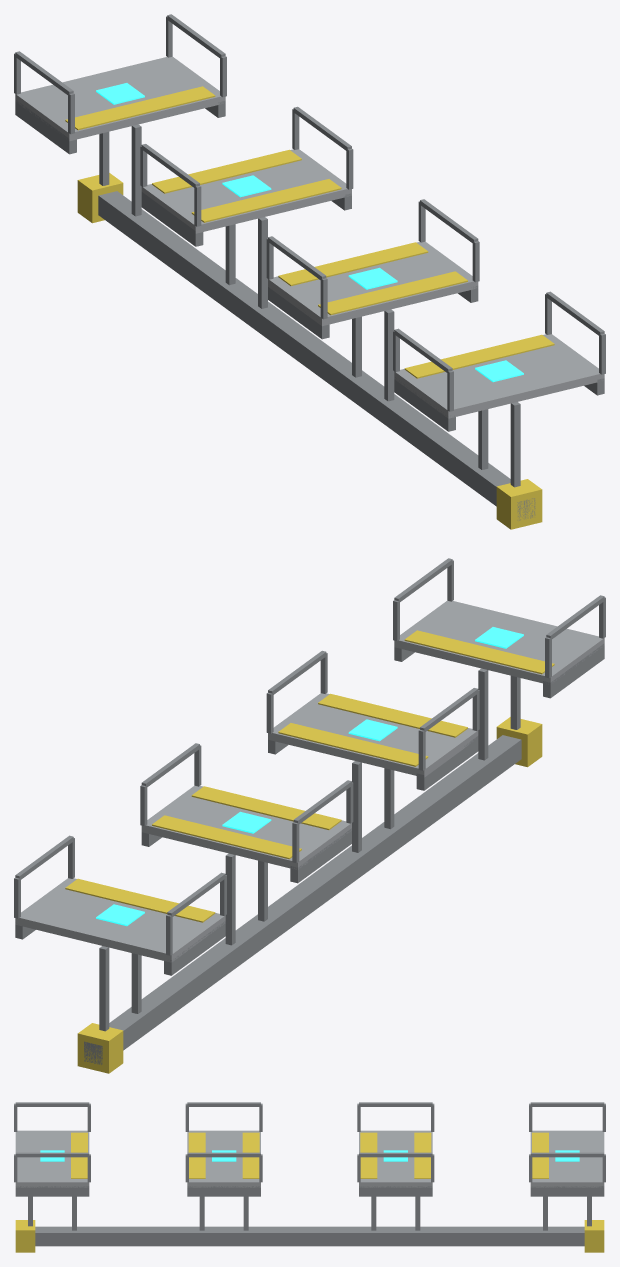
The model's file is scaffold_triple_cadence.glb.
The picture shows the model from 3 angles, top to bottom: view 1: azimuth 30°, elevation 25°; view 2: azimuth 150°, elevation 25°; view 3: azimuth 270°, elevation 25°; orthographic projection. The views are drawn at different scales.
Parts seen in each view (by area): view 1: Spine, Deck_d, Deck_a, Deck_c, Deck_b, Collar_12, Hazard_c_-1, Hazard_b_-1, Hazard_a_-1, Hazard_c_1, Hazard_d_1, Hazard_b_1 (+9 smaller); view 2: Spine, Deck_a, Deck_d, Deck_c, Deck_b, Hazard_b_1, Hazard_c_1, Hazard_d_1, Hazard_a_-1, Hazard_b_-1, Hazard_c_-1, Collar_0 (+9 smaller); view 3: Spine, Deck_d, Deck_a, Deck_b, Deck_c, Frame_a_1, Frame_d_1, Frame_b_1, Frame_c_1, Hazard_b_-1, Hazard_c_1, Hazard_b_1 (+13 smaller).
Boxes of the visible parts, x1,y1,x2,y2 form: Spine: (98, 191, 535, 520); Deck_d: (394, 334, 604, 418); Deck_a: (15, 56, 225, 141); Deck_c: (268, 241, 478, 326); Deck_b: (141, 149, 351, 233); Collar_12: (496, 479, 542, 529); Hazard_c_-1: (318, 271, 467, 315); Hazard_b_-1: (191, 179, 341, 222); Hazard_a_-1: (65, 86, 215, 130); Hazard_c_1: (278, 242, 428, 285); Hazard_d_1: (404, 334, 554, 378); Hazard_b_1: (152, 149, 301, 193); Spine: (84, 735, 521, 1064); Deck_a: (15, 878, 225, 962); Deck_d: (394, 600, 604, 684); Deck_c: (268, 693, 478, 777); Deck_b: (141, 785, 351, 869); Hazard_b_1: (152, 815, 301, 859); Hazard_c_1: (278, 723, 428, 766); Hazard_d_1: (404, 630, 554, 674); Hazard_a_-1: (65, 878, 215, 922); Hazard_b_-1: (191, 786, 341, 829); Hazard_c_-1: (318, 693, 467, 737); Collar_0: (77, 1023, 123, 1073); Spine: (35, 1226, 584, 1246); Deck_d: (15, 1130, 89, 1187); Deck_a: (530, 1130, 604, 1187); Deck_b: (359, 1130, 432, 1187); Deck_c: (187, 1130, 260, 1187); Frame_a_1: (530, 1186, 604, 1196); Frame_d_1: (15, 1186, 89, 1196); Frame_b_1: (359, 1186, 432, 1196); Frame_c_1: (187, 1186, 260, 1196); Hazard_b_-1: (360, 1132, 377, 1178); Hazard_c_1: (242, 1132, 259, 1178); Hazard_b_1: (414, 1132, 431, 1178).
Size of the model in its own units: 2.5 by 2.68 by 12.07.
